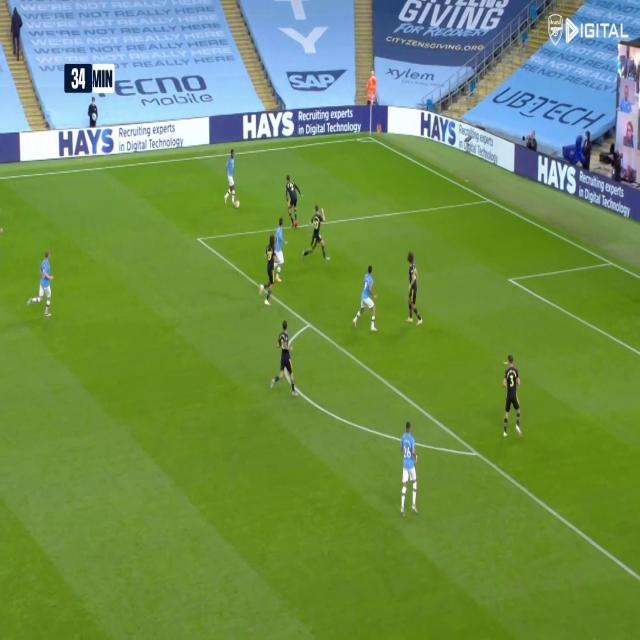ball: (234, 195, 241, 210)
team1: (269, 319, 295, 390), (503, 358, 522, 438), (256, 230, 276, 306), (305, 203, 331, 261), (406, 252, 421, 324), (284, 175, 301, 230)
team2: (401, 423, 421, 520), (352, 265, 380, 333), (30, 249, 56, 319), (265, 222, 286, 286), (224, 148, 236, 203)
